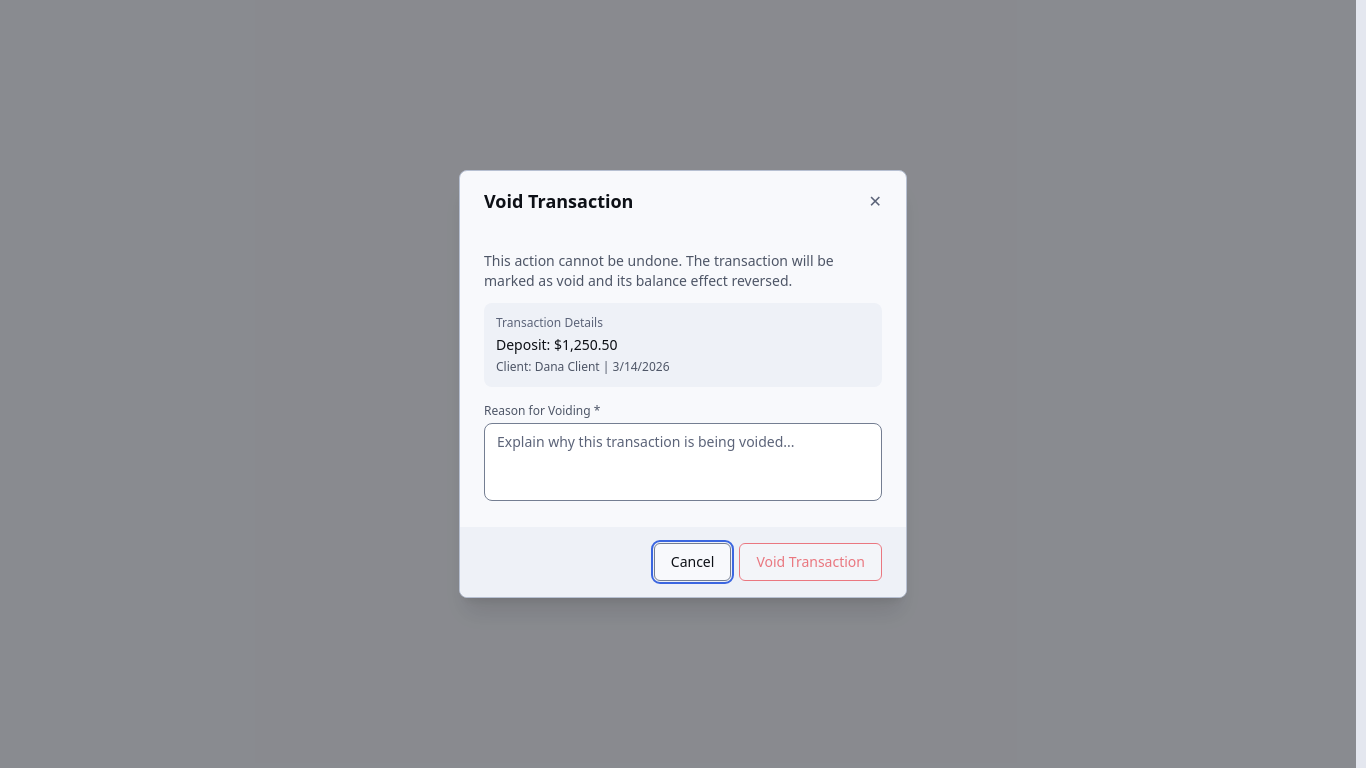
Test: VoidTransactionModal › keeps the dialog and the server's reason when the void is refused
Type "Bounced" into the text box labelled "Reason for Voiding *".
click(683, 462); type("Bounced")  # box [484,423,882,501]
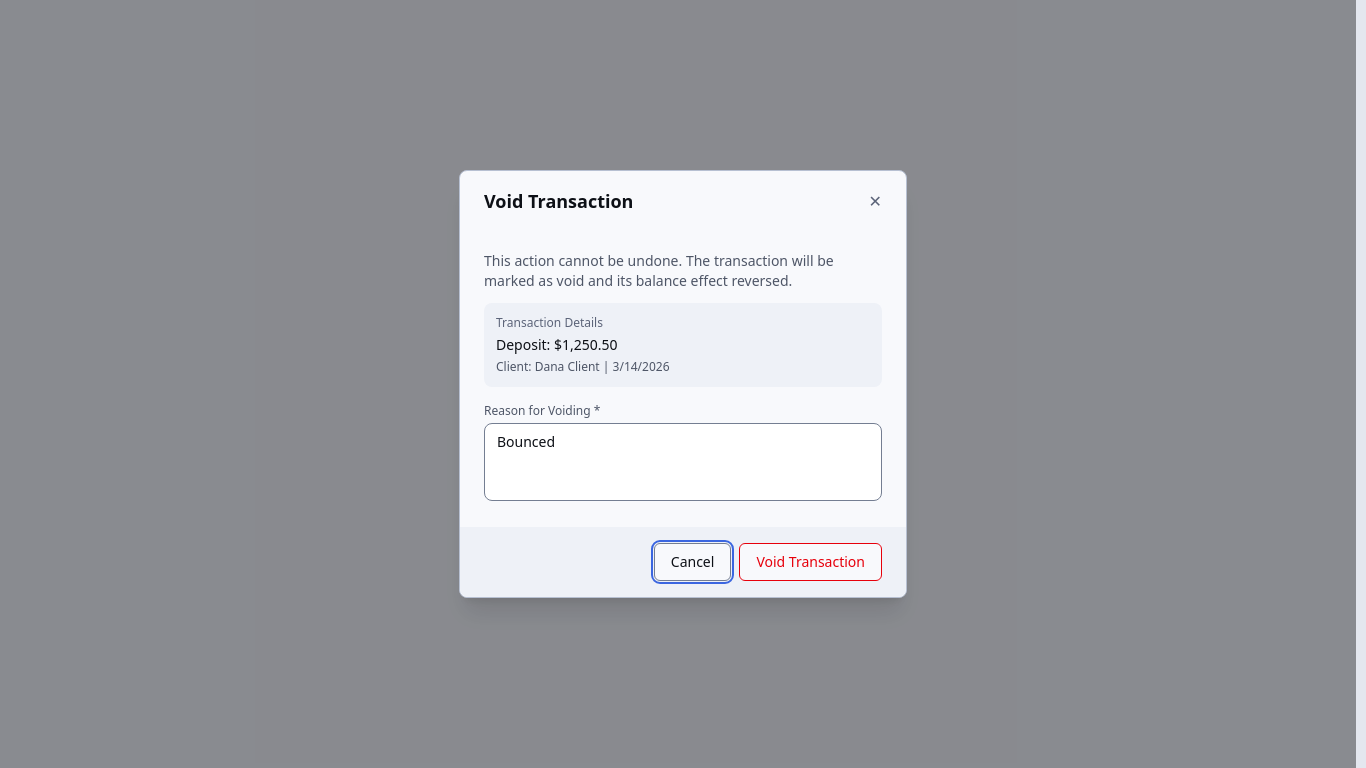
Click the button "Void Transaction".
click(811, 562)  # box [739,543,882,581]
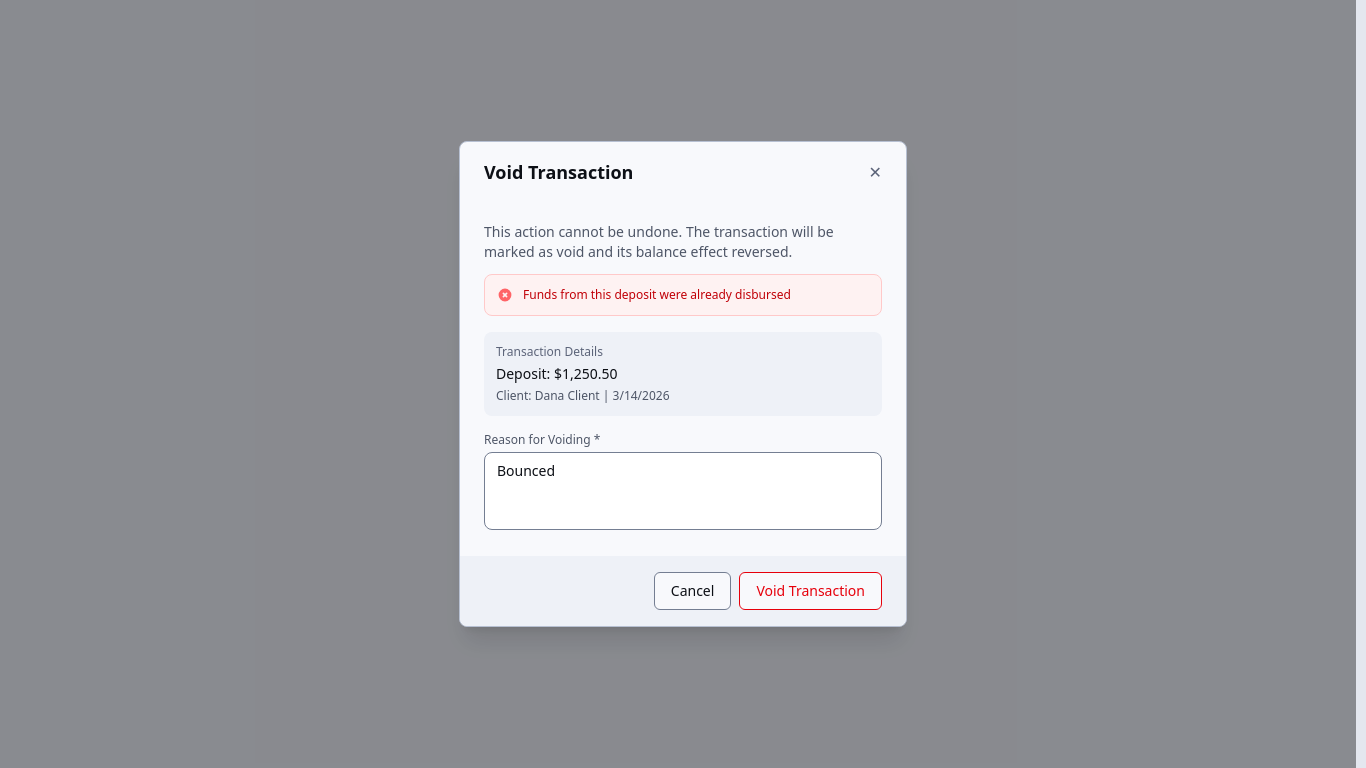
Check: the text "Funds from this deposit were already disbursed" is shown, box [523,286,791,303]
